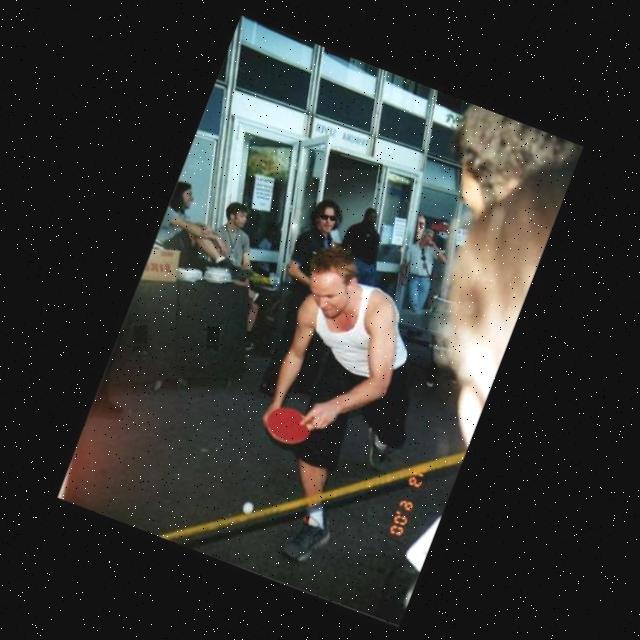ping-pong-ball: (238, 498, 254, 516)
